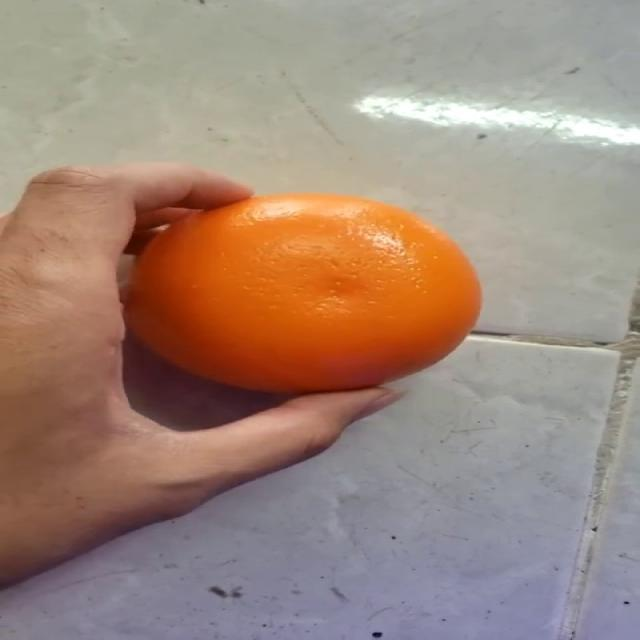Orange: (124, 190, 483, 394)
